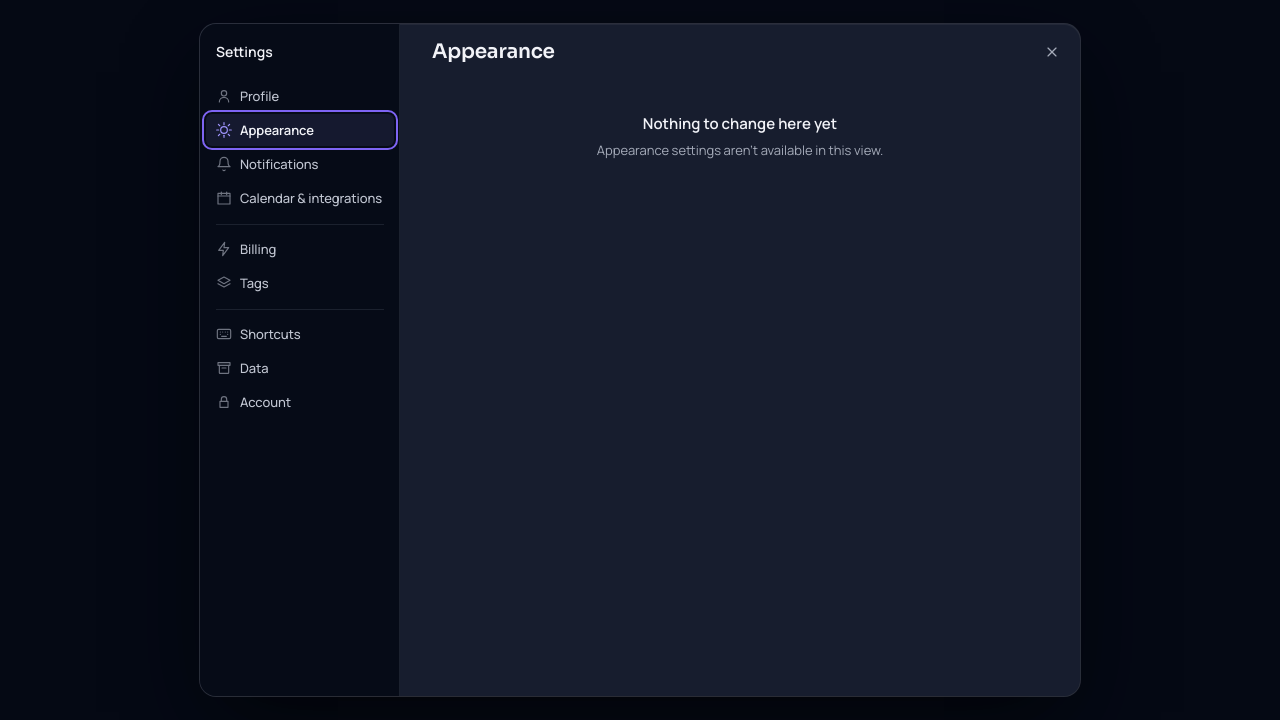
Test case: Settings → Delete account › shows a failed deletion inside the confirmation panel
Click the tab "Account" at (300, 402), box [206,386,394,418]
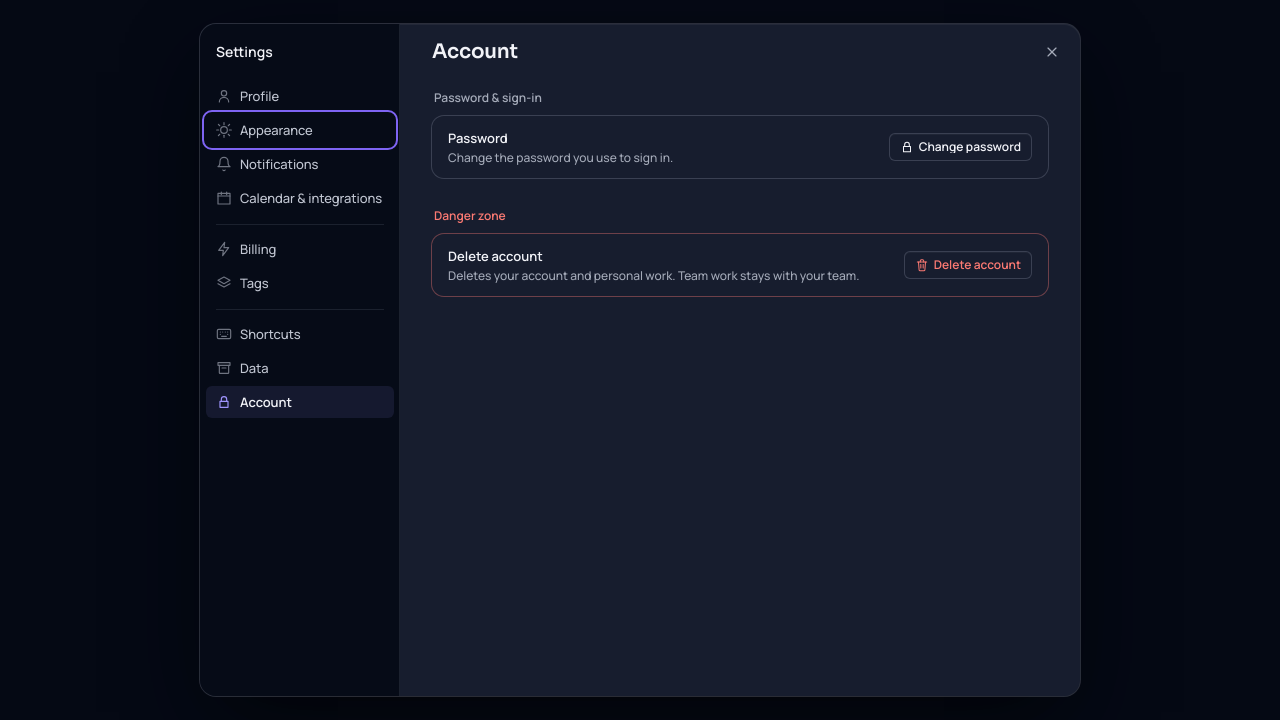
Click the button "Delete account" at (968, 265), box [904,251,1032,279]
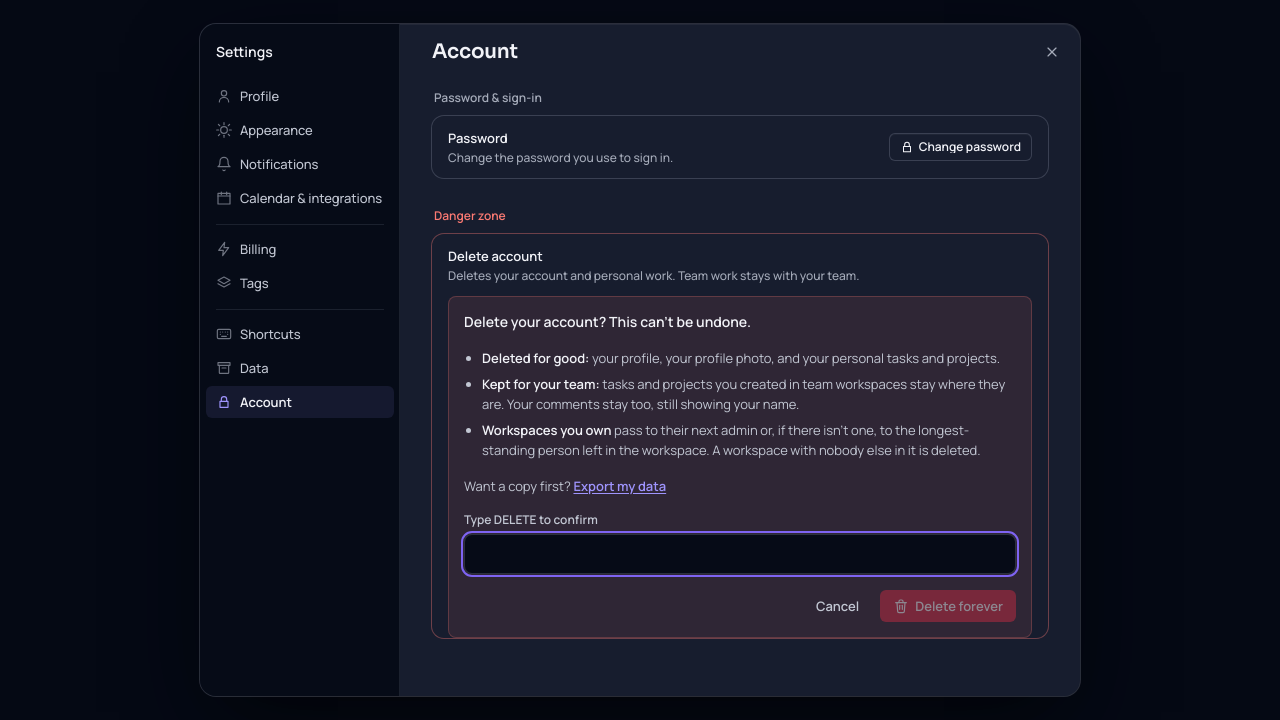
Type "DELETE" into the field labelled "Type DELETE to confirm" at (740, 554), box [464,534,1016,574]
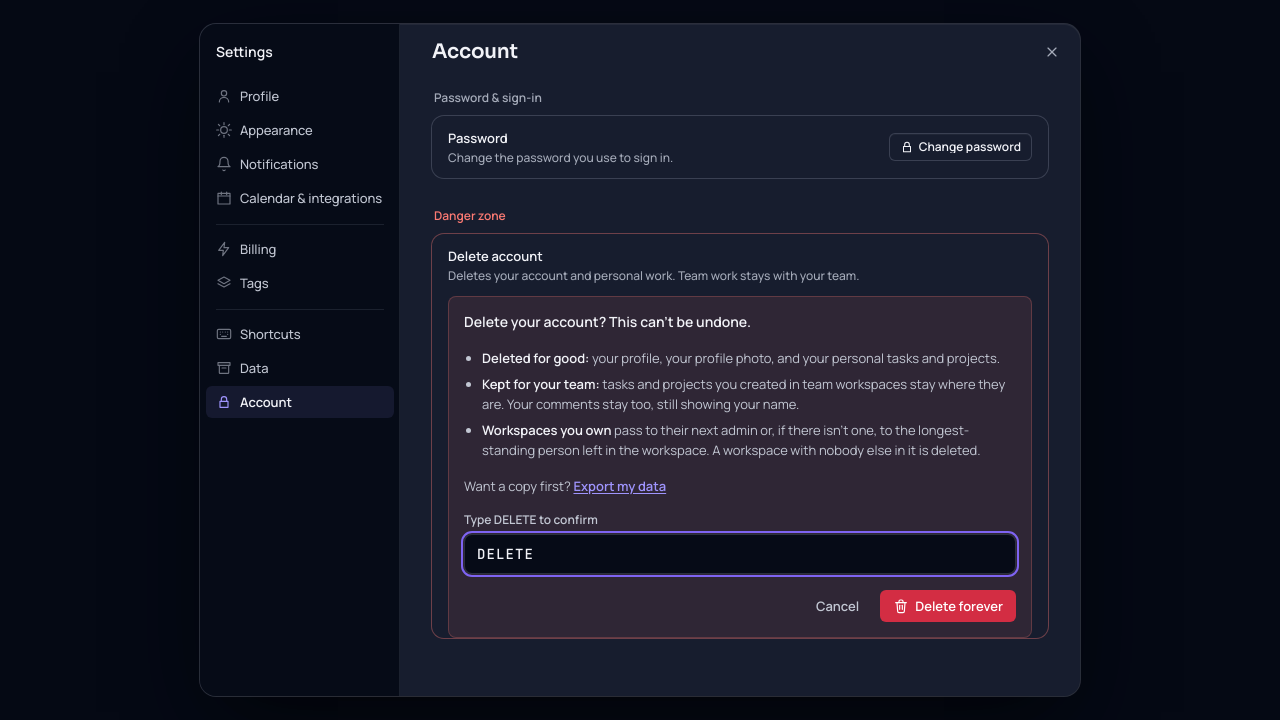
Click the button "Delete forever" at (948, 606), box [880,590,1016,622]
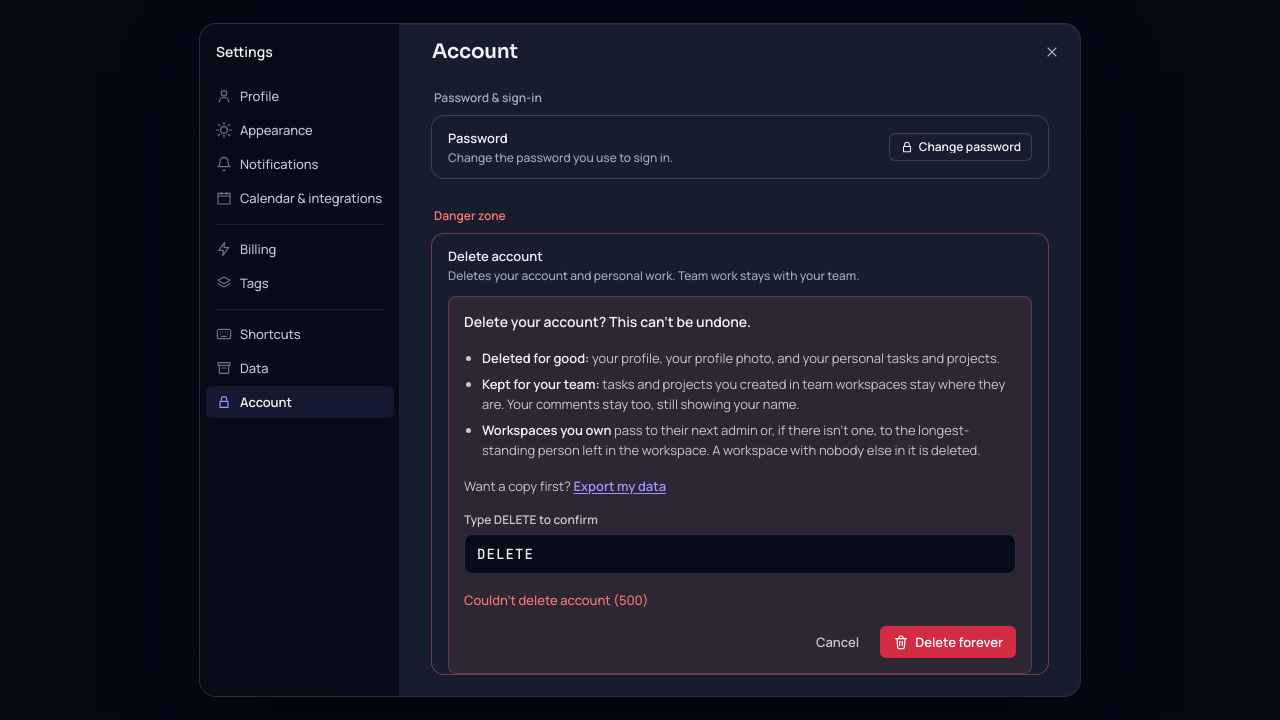
Now the message reads "Couldn't delete account (500)", box [464,591,648,609]
